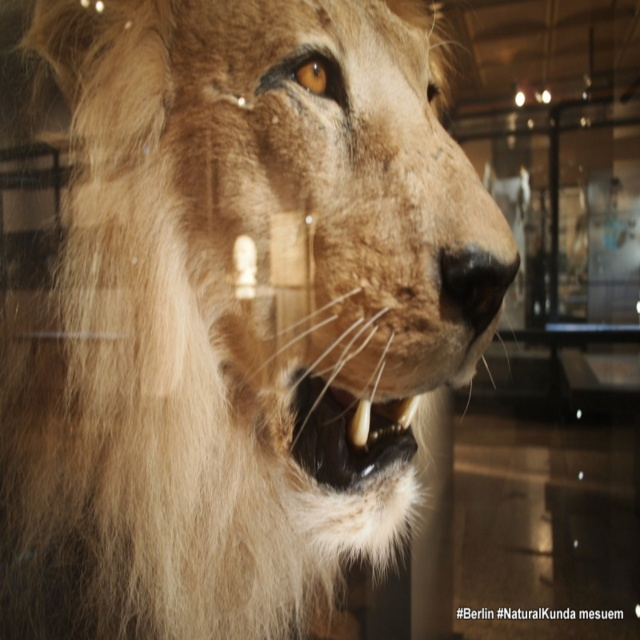Lion: (0, 0, 521, 640)
